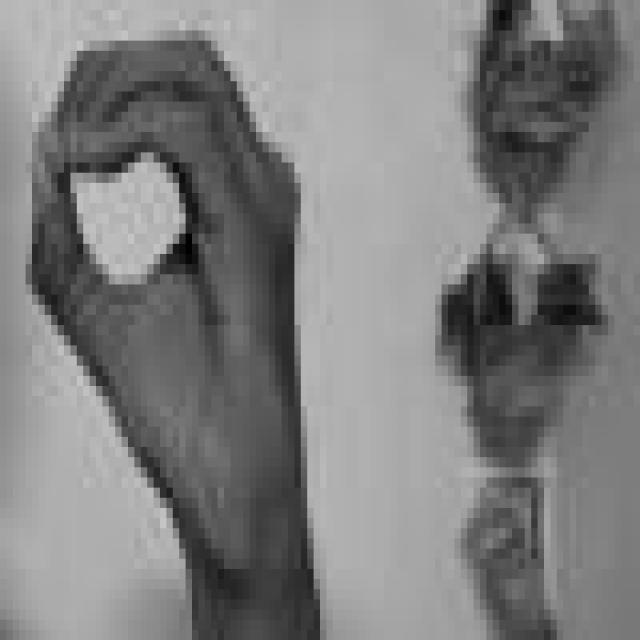O: (19, 15, 307, 564)
